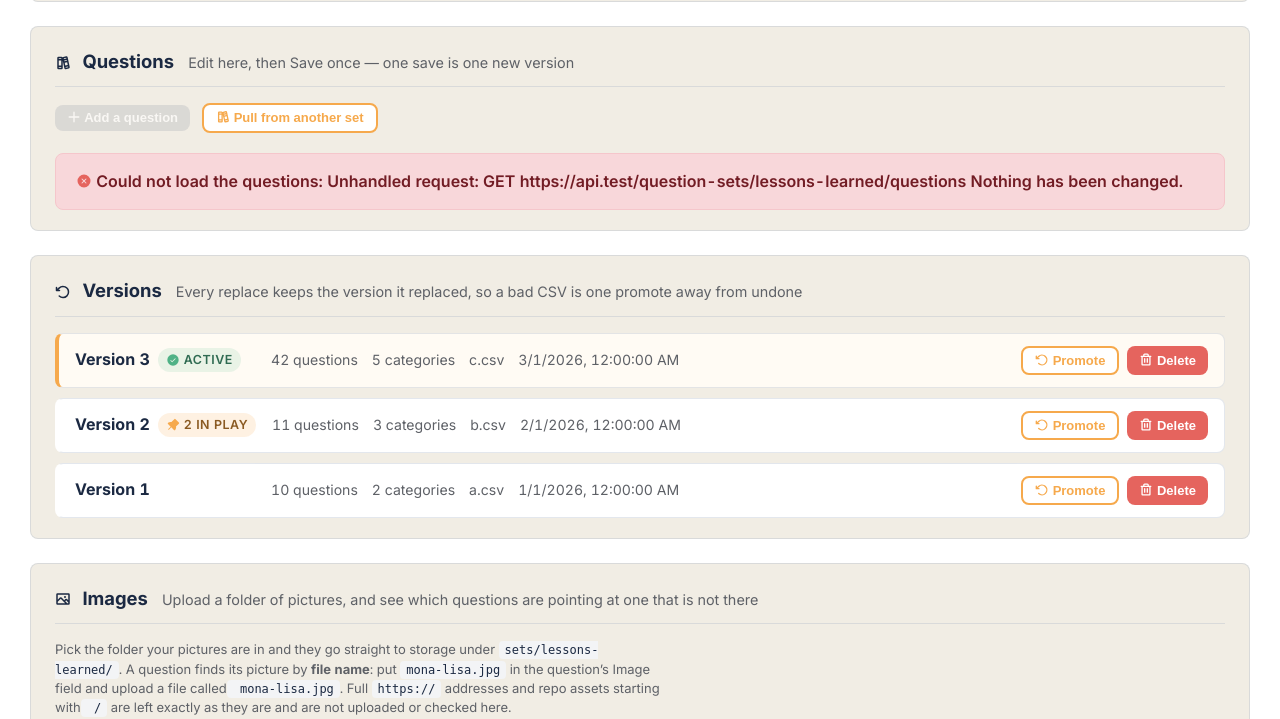
deleting a version › explains a 409 on the active version instead of failing generically
(page scrolled)
Click the button "Delete" in the row of "c.csv": coordinates (1168, 360) 1127,346 -> 1208,375
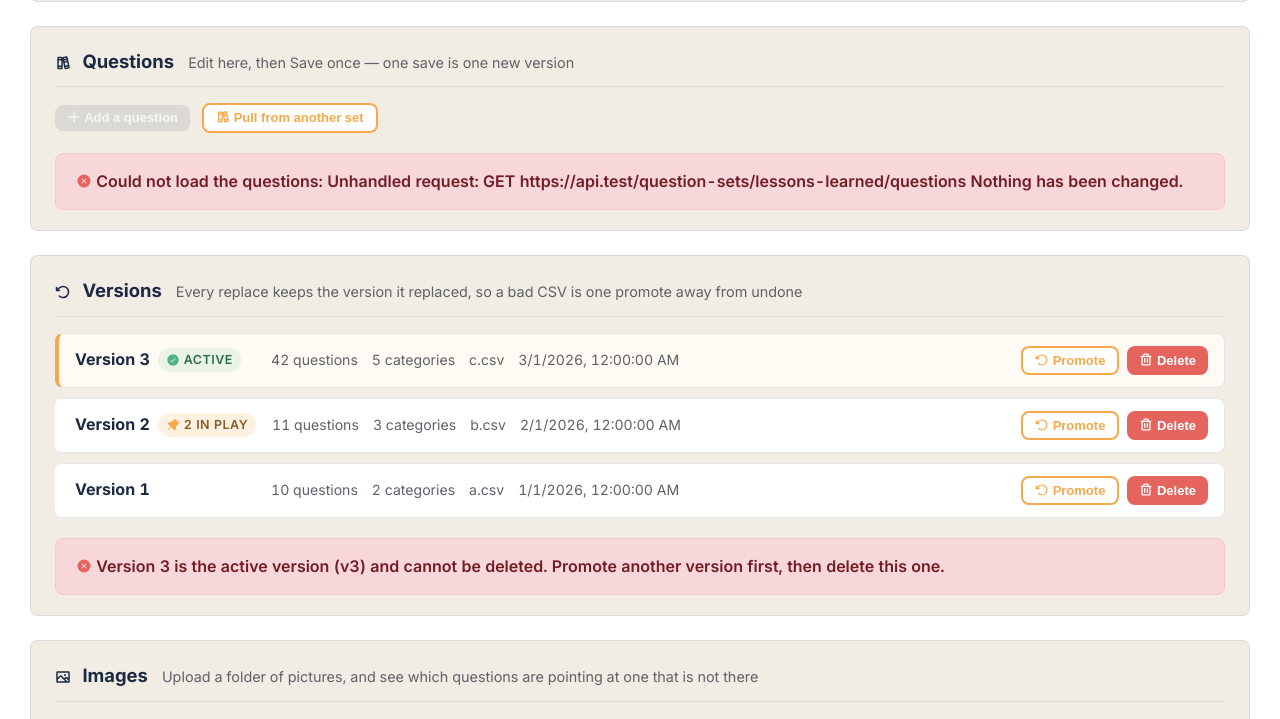
Result: the text "Promote another version first" shows "Version 3 is the active version (v3)" at 96,556 -> 945,576
